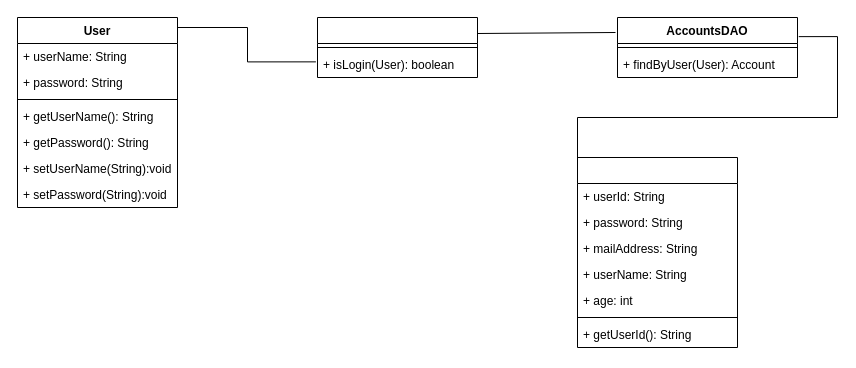
The diagram is 856 pixels wide and 368 high, and some of its shapes have lost their labels. The box of each missing label's shape, as (x1, y1, x2, y2) in pixels:
Accounts: (576, 156, 738, 348)
LoginLogic: (316, 16, 478, 78)
